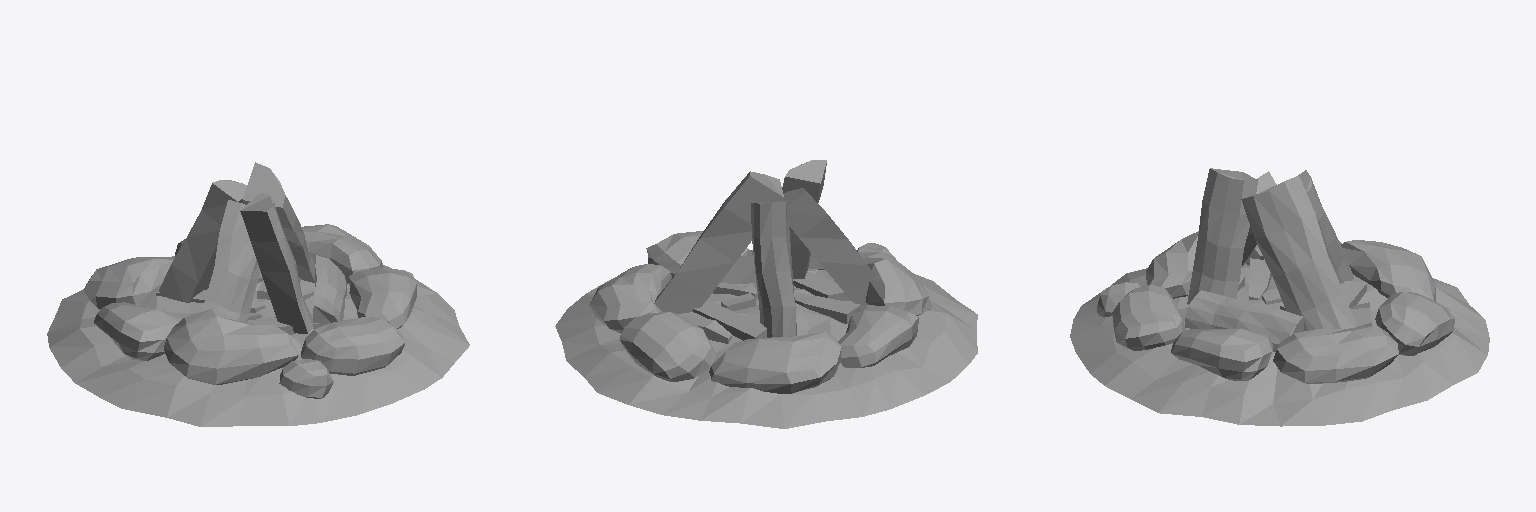
The model's file is bonfire0.obj.
3 views of the same model, side by side, from view 1: azimuth 30°, elevation 25°; view 2: azimuth 150°, elevation 25°; view 3: azimuth 270°, elevation 25° (orthographic).
Parts seen in each view (by area): view 1: Cylinder001_Untitled; view 2: Cylinder001_Untitled; view 3: Cylinder001_Untitled.
Part boxes in pixels (left/top/right/bottom): Cylinder001_Untitled: left=47, top=162, right=469, bottom=426; Cylinder001_Untitled: left=555, top=160, right=977, bottom=428; Cylinder001_Untitled: left=1070, top=168, right=1489, bottom=426.
Bounding box in the file's own units: 2.15 × 0.958 × 2.15.